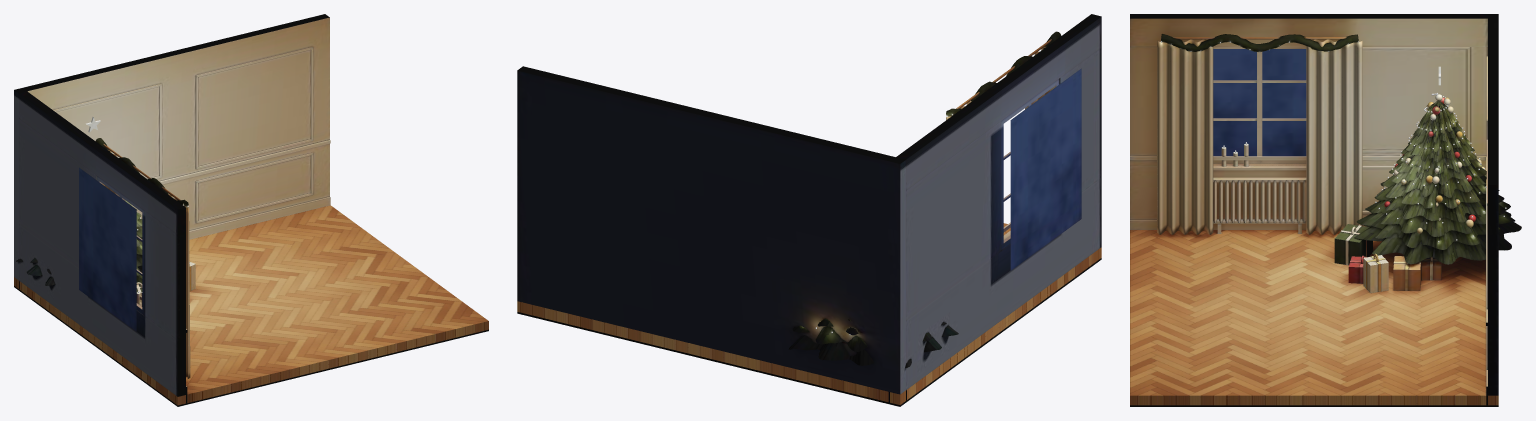
Rendered from noel.glb.
3 renders of one model, left to right at view 1: azimuth 30°, elevation 25°; view 2: azimuth 150°, elevation 25°; view 3: azimuth 270°, elevation 25°, orthographic. The views are drawn at different scales.
Parts seen in each view (by area): view 1: cuit_murs_noel, cuit_sol_noel; view 2: cuit_murs_noel, cuit_sol_noel; view 3: cuit_murs_noel, cuit_sol_noel.
Part boxes in pixels (left/top/right/bottom): cuit_murs_noel: left=14, top=14, right=488, bottom=406; cuit_sol_noel: left=14, top=205, right=488, bottom=405; cuit_murs_noel: left=517, top=14, right=1101, bottom=406; cuit_sol_noel: left=517, top=223, right=1101, bottom=404; cuit_murs_noel: left=1130, top=14, right=1521, bottom=406; cuit_sol_noel: left=1130, top=230, right=1498, bottom=405.
Bounding box in the file's own units: 4.7 × 2.74 × 4.38.
2 materials, 2 textured.
